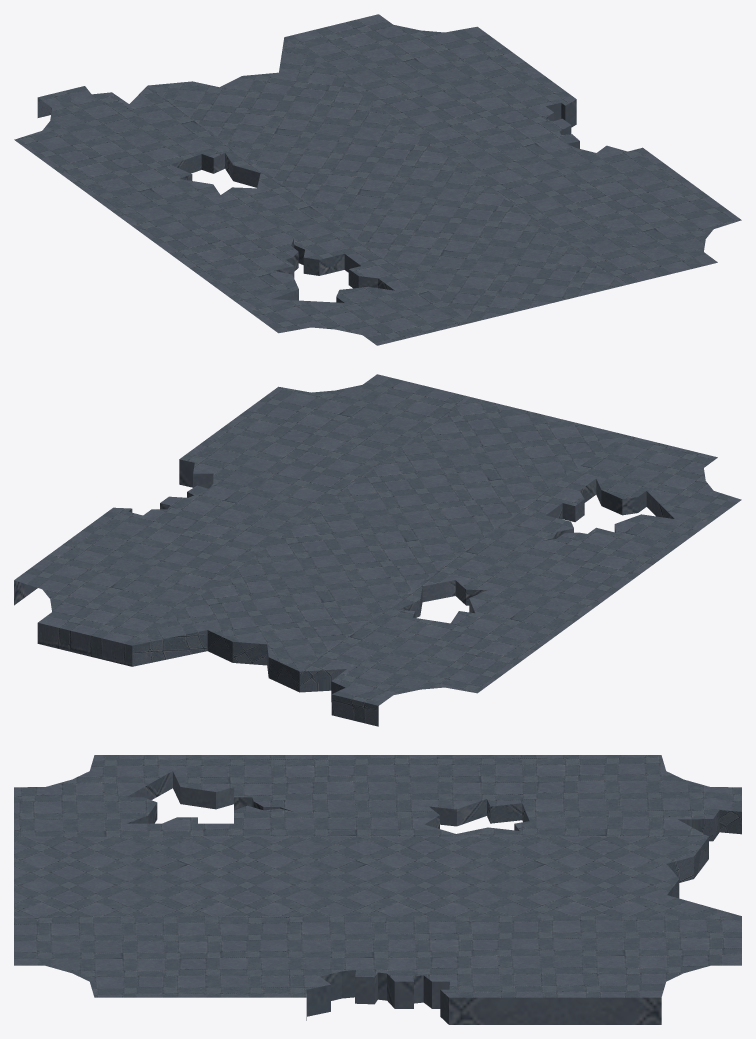
The model's file is tlfb2_dimian01.FBX.
3 renders of one model, top to bottom at view 1: azimuth 30°, elevation 25°; view 2: azimuth 150°, elevation 25°; view 3: azimuth 270°, elevation 25°, orthographic. The views are drawn at different scales.
Parts seen in each view (by area): view 1: tlfb2_dimian01; view 2: tlfb2_dimian01; view 3: tlfb2_dimian01.
Boxes of the visible parts, x1,y1,x2,y2 form: tlfb2_dimian01: [14, 14, 741, 345]; tlfb2_dimian01: [14, 374, 741, 726]; tlfb2_dimian01: [14, 755, 741, 1024].
Bounding box in the file's own units: 2607 × 136 × 3307.
